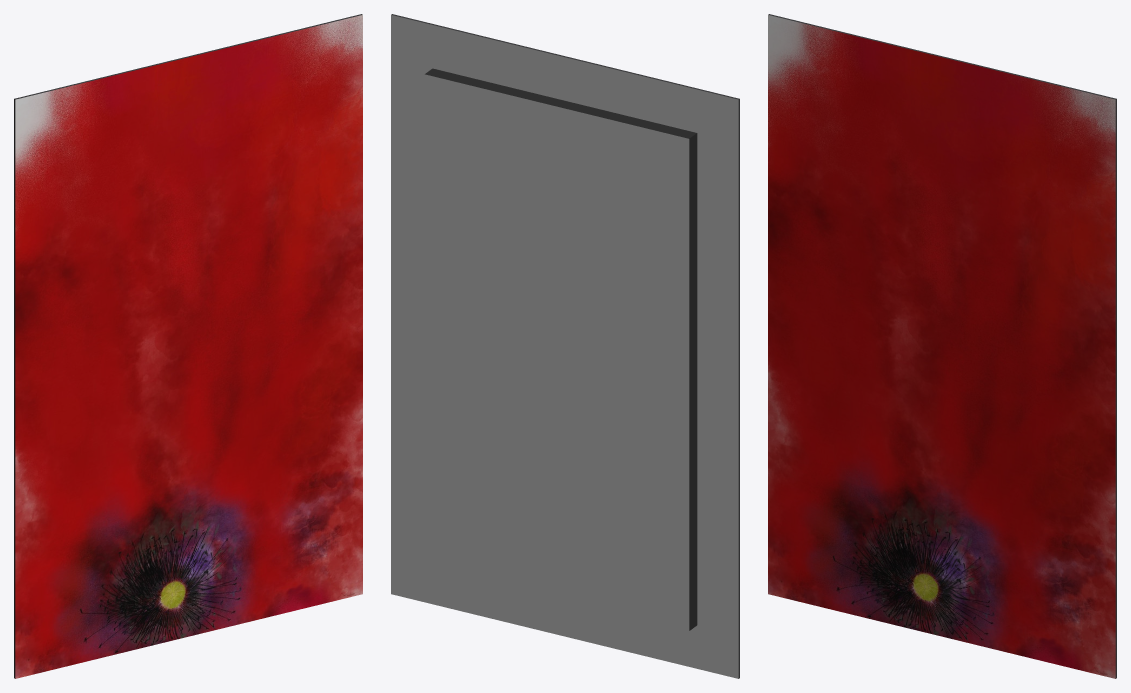
Rendered from os030_moyen_dibond.glb.
The picture shows the model from 3 angles, left to right: view 1: azimuth 30°, elevation 25°; view 2: azimuth 150°, elevation 25°; view 3: azimuth 330°, elevation 25°; orthographic projection.
Parts seen in each view (by area): view 1: os030_moyen_dibond; view 2: os030_moyen_dibond; view 3: os030_moyen_dibond.
Boxes of the visible parts, <box> form: os030_moyen_dibond: <box>14,14,362,678</box>; os030_moyen_dibond: <box>391,14,739,678</box>; os030_moyen_dibond: <box>768,14,1116,678</box>.
Bounding box in the file's own units: 0.5024 × 0.8 × 0.023.
4 materials, 1 textured.
